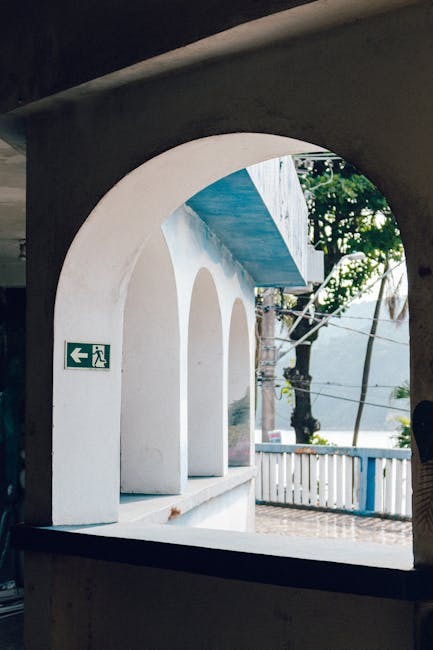emergency_exit: (64, 340, 111, 370)
